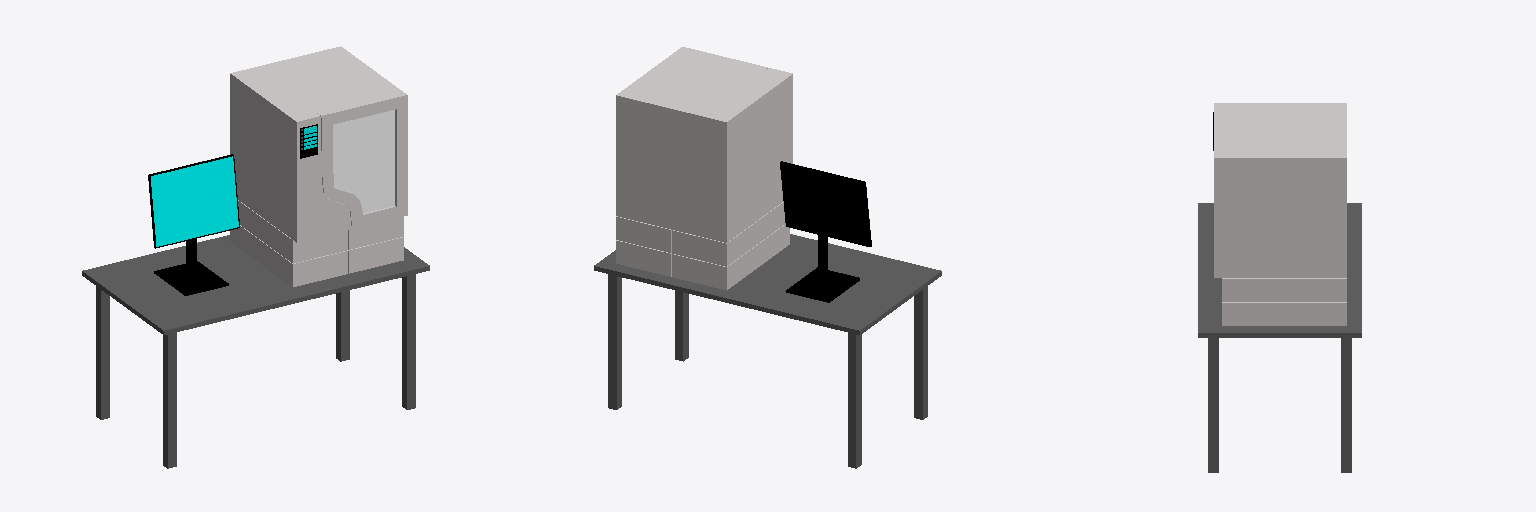
The model's file is static.obj.
3 renders of one model, left to right at view 1: azimuth 30°, elevation 25°; view 2: azimuth 150°, elevation 25°; view 3: azimuth 270°, elevation 25°, orthographic.
Parts seen in each view (by area): view 1: object_3, object_9, object_2, object_12, object_11, object_10, object_5, object_8, object_1, object_4, object_7; view 2: object_9, object_3, object_1, object_5, object_8, object_4, object_7; view 3: object_9, object_3, object_4, object_7, object_11.
Part boxes in pixels (x1,y1,x2,y2): object_3: (82,235,429,468); object_9: (230,46,402,239); object_2: (151,156,238,246); object_12: (333,110,394,212); object_11: (318,92,407,228); object_10: (293,113,351,242); object_5: (230,225,347,286); object_8: (238,200,347,263); object_1: (148,154,239,295); object_4: (348,237,403,273); object_7: (348,217,403,249); object_9: (616,49,789,242); object_3: (594,234,941,468); object_1: (780,161,871,302); object_5: (672,224,789,290); object_8: (672,202,785,266); object_4: (616,240,671,276); object_7: (616,216,671,252); object_9: (1222,103,1346,277); object_3: (1198,203,1361,472); object_4: (1222,302,1346,325); object_7: (1222,278,1346,301); object_11: (1214,115,1221,277).
Size of the model in its own units: 60 by 67.34 by 32.